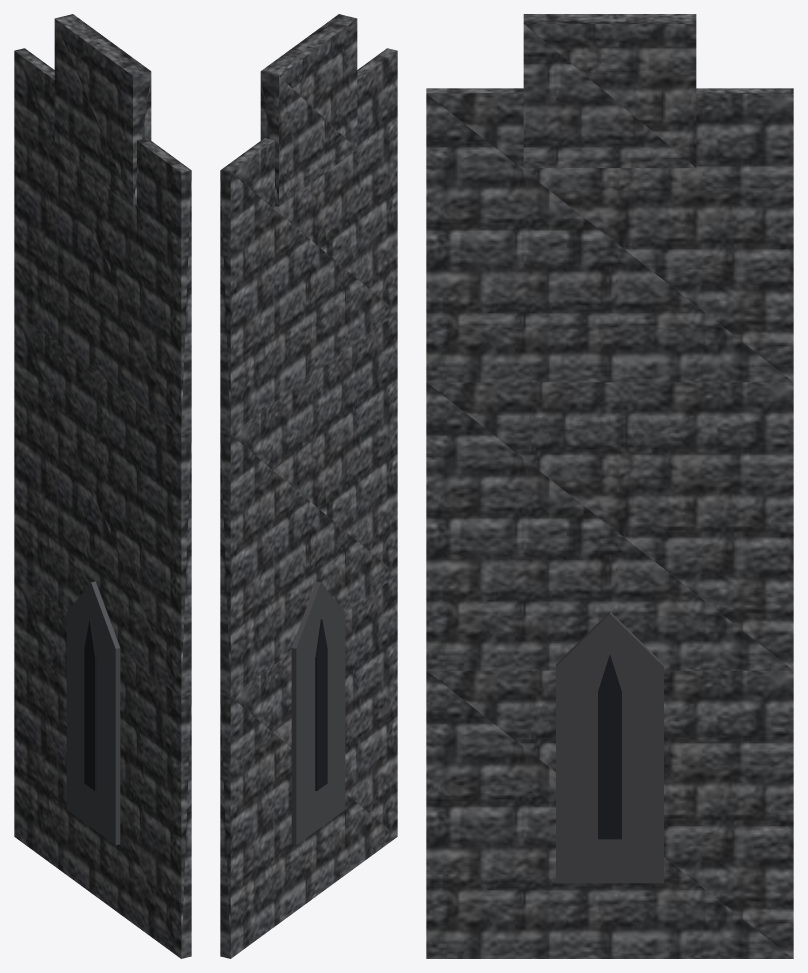
The model's file is tower_slice.glb.
The picture shows the model from 3 angles, left to right: view 1: azimuth 30°, elevation 25°; view 2: azimuth 150°, elevation 25°; view 3: azimuth 270°, elevation 25°; orthographic projection. The views are drawn at different scales.
Visible parts, largest first — view 1: CastleTowerSlice; view 2: CastleTowerSlice; view 3: CastleTowerSlice.
Part boxes in pixels (left/top/right/bottom): CastleTowerSlice: left=14, top=14, right=191, bottom=958; CastleTowerSlice: left=220, top=14, right=397, bottom=958; CastleTowerSlice: left=426, top=14, right=793, bottom=958.
Bounding box in the file's own units: 0.214 × 6.5 × 2.31.
2 materials, 1 textured.
